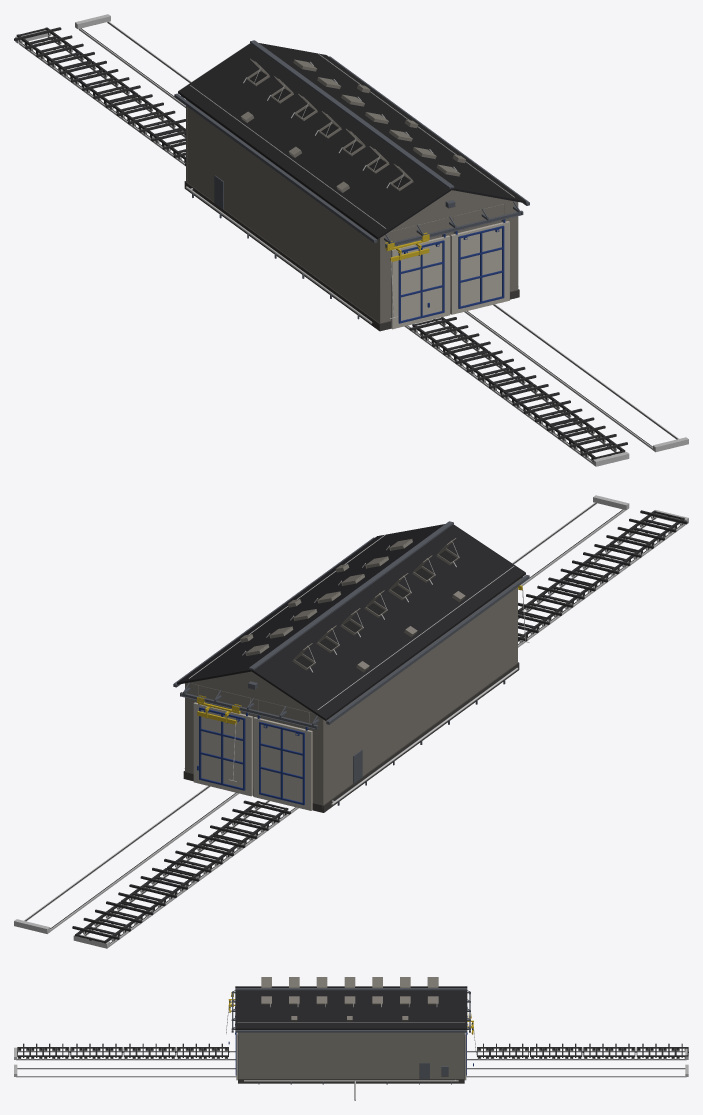
Rendered from kiln.glb.
3 views of the same model, one above another, from view 1: azimuth 30°, elevation 25°; view 2: azimuth 150°, elevation 25°; view 3: azimuth 270°, elevation 25° (orthographic). The views are drawn at different scales.
Visible parts, largest first — view 1: KilnRoof, KilnBuilding, KilnRails, KilnDoor_R1, KilnDoor_R0, KilnTrim, KilnRoofVents, KilnCurb, KilnFlangeways, KilnDoorFrame_R1, KilnDoorFrame_R0, KilnDoorRail_R (+2 smaller); view 2: KilnRoof, KilnBuilding, KilnRails, KilnDoor_F0, KilnDoor_F1, KilnTrim, KilnRoofVents, KilnCurb, KilnFlangeways, KilnDoorFrame_F1, KilnDoorFrame_F0, KilnDoorRail_F (+2 smaller); view 3: KilnBuilding, KilnRoof, KilnRails, KilnRoofVents, KilnTrim, KilnCurb, KilnFlangeways, KilnCoils, KilnVentRods, KilnFittings.
Part boxes in pixels (x1,y1,x2,y2): KilnRoof: [178, 43, 526, 239]; KilnBuilding: [186, 99, 518, 323]; KilnRails: [15, 14, 688, 466]; KilnDoor_R1: [450, 221, 509, 314]; KilnDoor_R0: [391, 235, 450, 329]; KilnTrim: [174, 40, 529, 246]; KilnRoofVents: [241, 58, 465, 192]; KilnCurb: [184, 181, 519, 331]; KilnFlangeways: [21, 22, 677, 459]; KilnDoorFrame_R1: [455, 219, 505, 308]; KilnDoorFrame_R0: [396, 234, 445, 323]; KilnDoorRail_R: [384, 201, 523, 247]; KilnRoof: [177, 524, 525, 720]; KilnBuilding: [185, 580, 517, 804]; KilnRails: [14, 495, 688, 948]; KilnDoor_F0: [253, 717, 312, 810]; KilnDoor_F1: [193, 702, 252, 796]; KilnTrim: [173, 521, 529, 729]; KilnRoofVents: [240, 538, 465, 672]; KilnCurb: [183, 662, 519, 812]; KilnFlangeways: [25, 503, 679, 943]; KilnDoorFrame_F1: [198, 704, 247, 790]; KilnDoorFrame_F0: [257, 715, 307, 805]; KilnDoorRail_F: [180, 682, 319, 729]; KilnBuilding: [238, 1032, 463, 1078]; KilnRoof: [235, 986, 467, 1029]; KilnRails: [14, 1047, 688, 1077]; KilnRoofVents: [261, 977, 438, 1021]; KilnTrim: [235, 988, 467, 1075]; KilnCurb: [238, 1075, 464, 1083]; KilnFlangeways: [17, 1051, 684, 1068]; KilnCoils: [244, 1080, 458, 1100]; KilnVentRods: [237, 986, 464, 1022]; KilnFittings: [419, 1063, 448, 1083].
Bounding box in the file's own units: 13.73 × 8.29 × 63.19.
